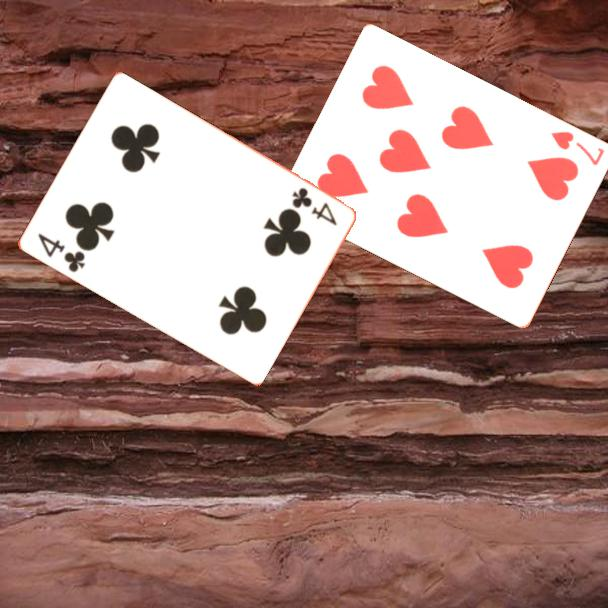c04: (34, 230, 88, 275), (288, 184, 340, 229)
h07: (547, 128, 607, 168)
